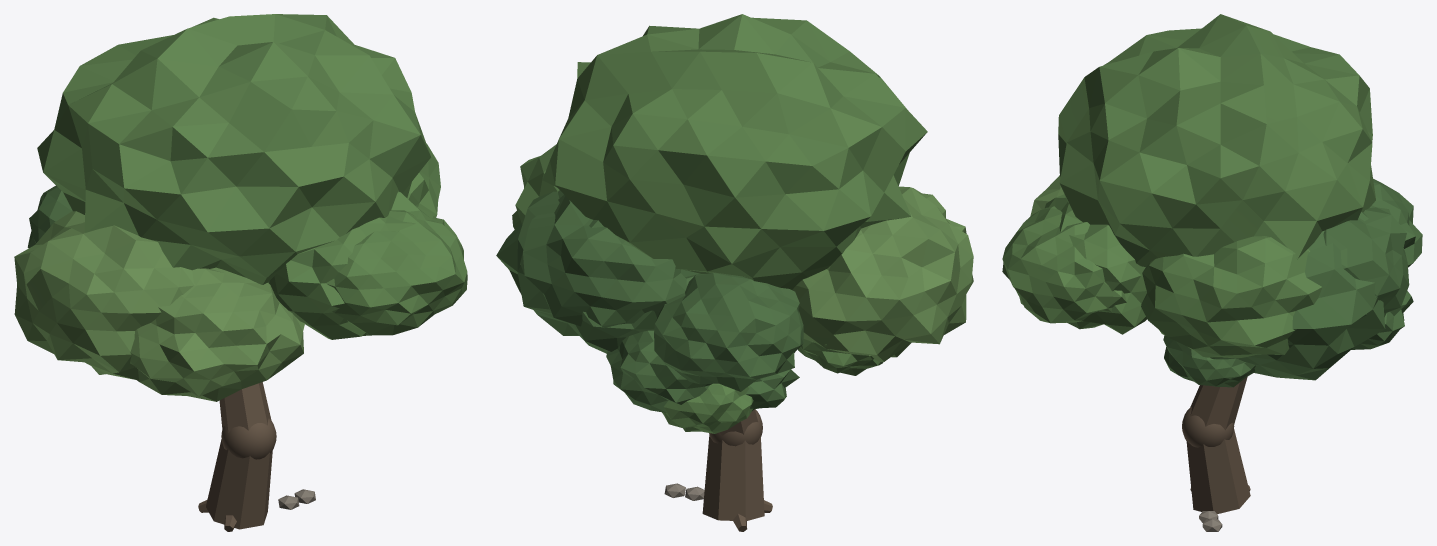
File: tree_lvl3.glb
3 views of the same model, side by side, from view 1: azimuth 30°, elevation 25°; view 2: azimuth 150°, elevation 25°; view 3: azimuth 270°, elevation 25° (orthographic). The views are drawn at different scales.
Parts seen in each view (by area): view 1: tree; view 2: tree; view 3: tree.
Part boxes in pixels (bbox=[...]): tree: bbox=[14, 14, 467, 531]; tree: bbox=[496, 14, 973, 531]; tree: bbox=[1002, 14, 1422, 531].
Bounding box in the file's own units: 1 × 1.11 × 0.9132.
